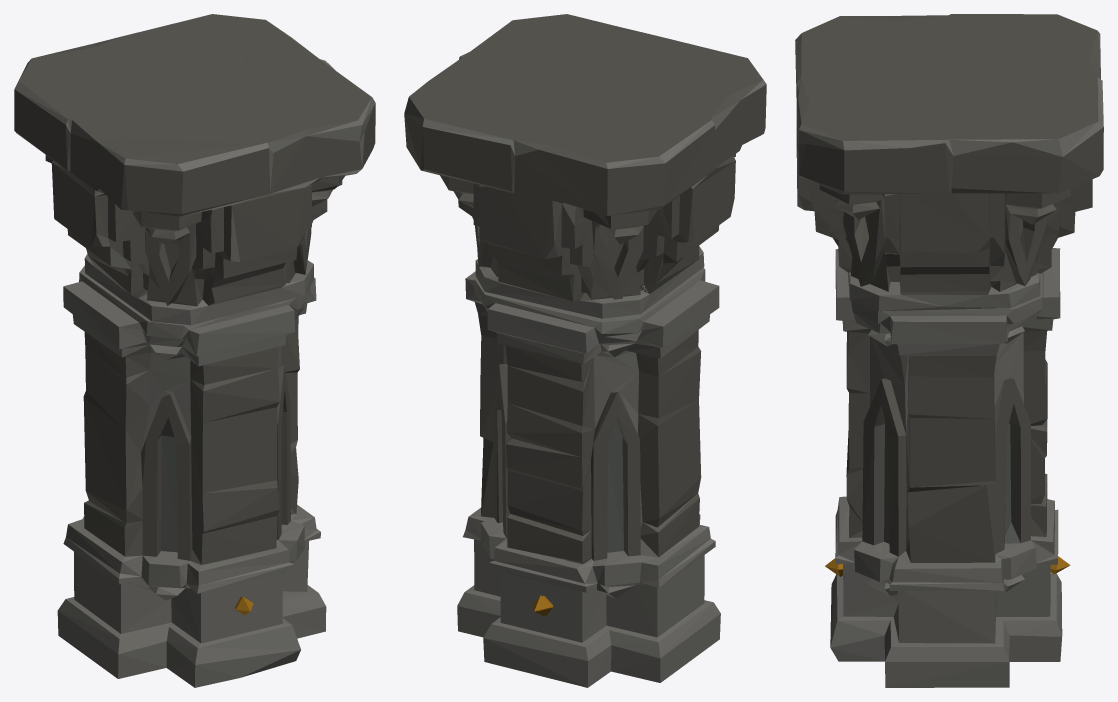
File: MDungeon_PillarSmall_Med.FBX
3 views of the same model, side by side, from view 1: azimuth 30°, elevation 25°; view 2: azimuth 150°, elevation 25°; view 3: azimuth 270°, elevation 25° (orthographic). The views are drawn at different scales.
Parts seen in each view (by area): view 1: MDungeon_PillarSmall_Med_LOD0; view 2: MDungeon_PillarSmall_Med_LOD0; view 3: MDungeon_PillarSmall_Med_LOD0.
Part boxes in pixels (x1,y1,x2,y2): MDungeon_PillarSmall_Med_LOD0: (14,14,375,687); MDungeon_PillarSmall_Med_LOD0: (404,14,766,687); MDungeon_PillarSmall_Med_LOD0: (795,14,1103,687).
Size of what is drawn, in the model's own units: 3.02 by 6.05 by 3.02.
